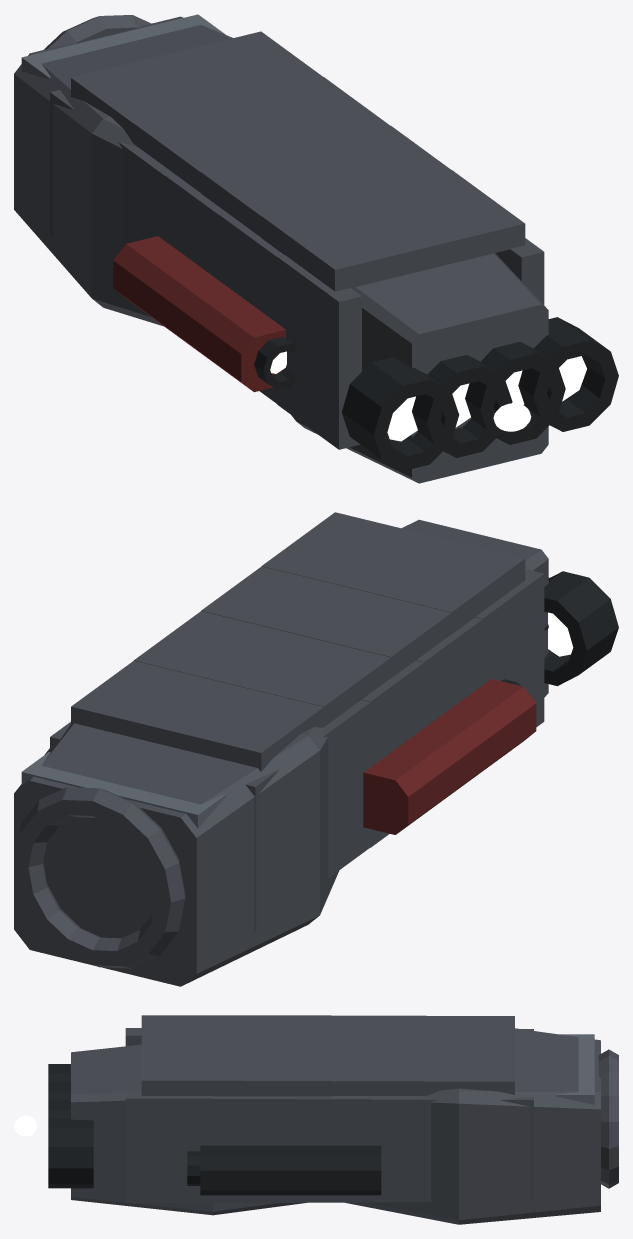
3 views of the same model, one above another, from view 1: azimuth 30°, elevation 25°; view 2: azimuth 150°, elevation 25°; view 3: azimuth 270°, elevation 25° (orthographic). The views are drawn at different scales.
Parts seen in each view (by area): view 1: RIMWARD_HULL, RIMWARD_EMISSIVE, RIMWARD_ENGINE_GLOW; view 2: RIMWARD_HULL, RIMWARD_EMISSIVE; view 3: RIMWARD_HULL, RIMWARD_ENGINE_GLOW.
Part boxes in pixels (left/top/right/bottom): RIMWARD_HULL: left=14, top=14, right=618, bottom=483; RIMWARD_EMISSIVE: left=270, top=351, right=586, bottom=441; RIMWARD_ENGINE_GLOW: left=493, top=403, right=531, bottom=431; RIMWARD_HULL: left=14, top=512, right=618, bottom=986; RIMWARD_EMISSIVE: left=548, top=612, right=573, bottom=656; RIMWARD_HULL: left=48, top=1015, right=618, bottom=1224; RIMWARD_ENGINE_GLOW: left=14, top=1115, right=37, bottom=1136.
Size of the model in its own units: 4.1 by 2.66 by 10.29.
